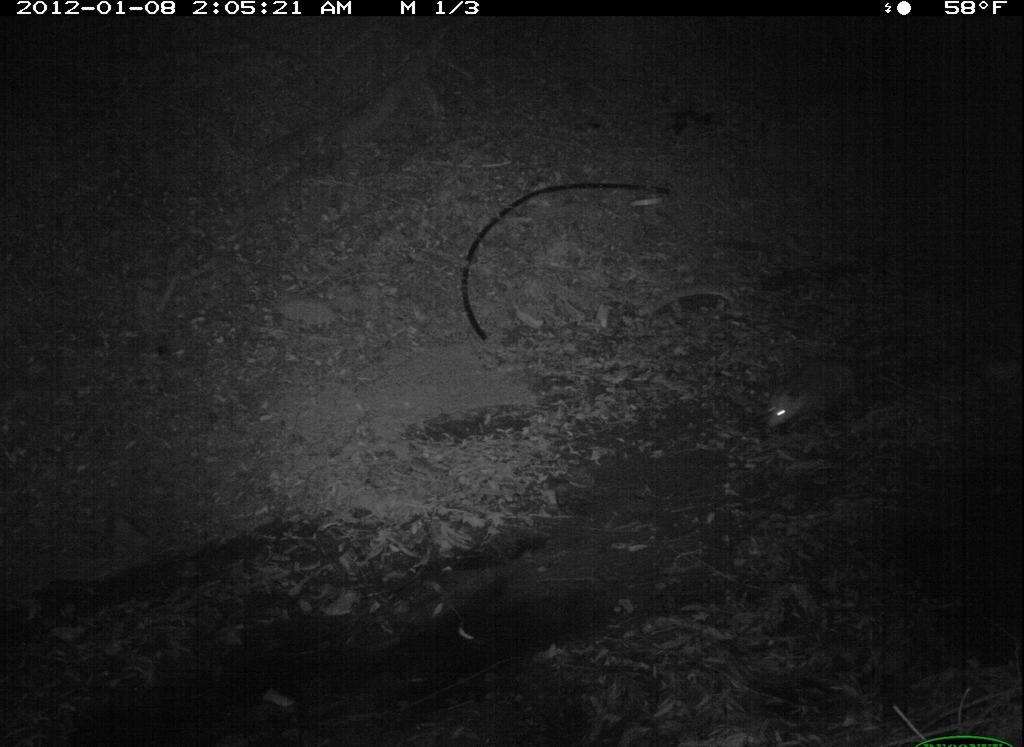opossum: (760, 346, 931, 443)
